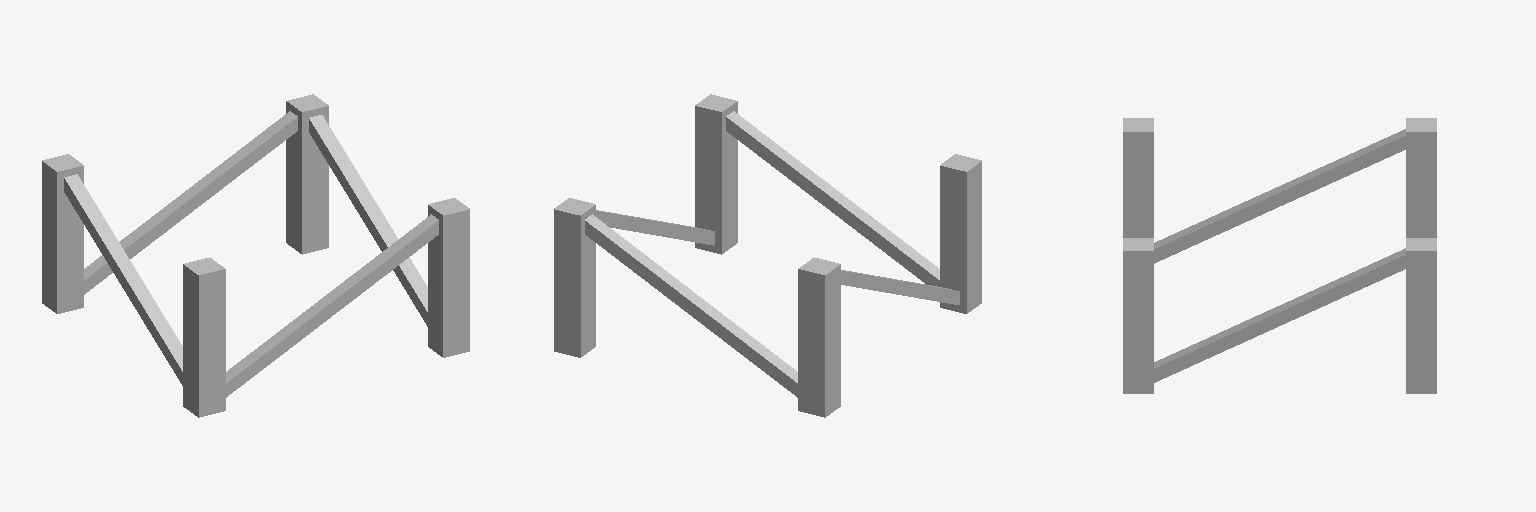
3 views of the same model, side by side, from view 1: azimuth 30°, elevation 25°; view 2: azimuth 150°, elevation 25°; view 3: azimuth 270°, elevation 25° (orthographic).
Parts seen in each view (by area): view 1: gear_full; view 2: gear_full; view 3: gear_full.
Part boxes in pixels (x1,y1,x2,y2): gear_full: (42,94,469,417); gear_full: (554,94,981,417); gear_full: (1123,118,1436,393).
Size of the model in its own units: 1 by 0.5 by 1.